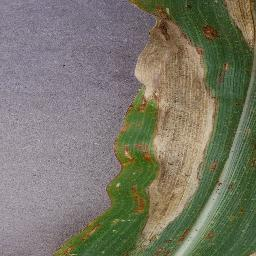Corn_Blight: (128, 4, 197, 212), (107, 106, 129, 254), (196, 48, 218, 157), (138, 213, 192, 256), (52, 215, 105, 256), (227, 0, 256, 46), (204, 174, 240, 197), (242, 123, 256, 173), (196, 22, 222, 45), (200, 228, 220, 245), (232, 207, 248, 227), (219, 58, 232, 79), (204, 159, 222, 174), (182, 0, 197, 12), (232, 94, 244, 108)
